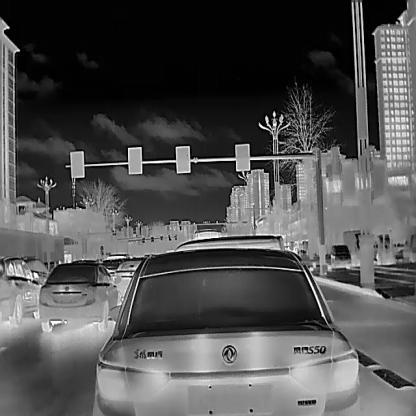car: (92, 247, 359, 415), (39, 263, 121, 331), (0, 255, 42, 328), (330, 244, 351, 269), (403, 234, 416, 263)
